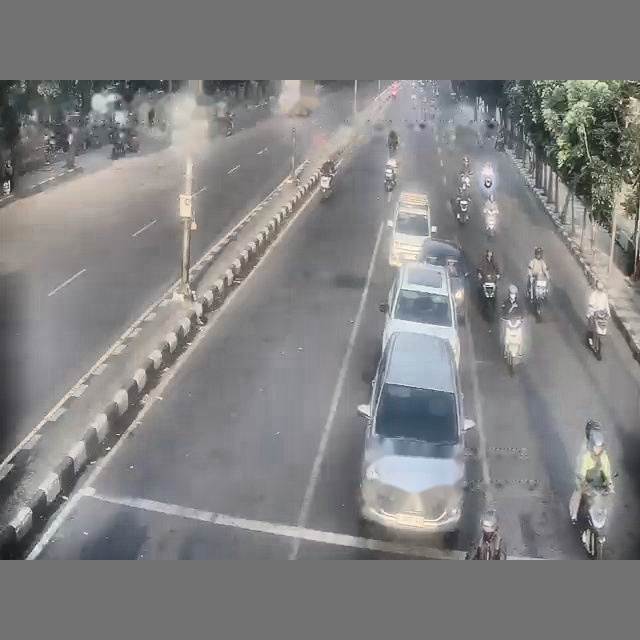Mobil: (358, 332, 474, 536), (380, 262, 460, 365), (419, 238, 469, 323), (387, 192, 436, 266)
Motor: (578, 485, 610, 560), (503, 316, 523, 375), (587, 310, 608, 360), (478, 273, 498, 322), (530, 275, 547, 321), (456, 194, 470, 223), (484, 209, 496, 237), (320, 174, 332, 200), (111, 139, 125, 159), (384, 167, 395, 192), (482, 166, 493, 188)
